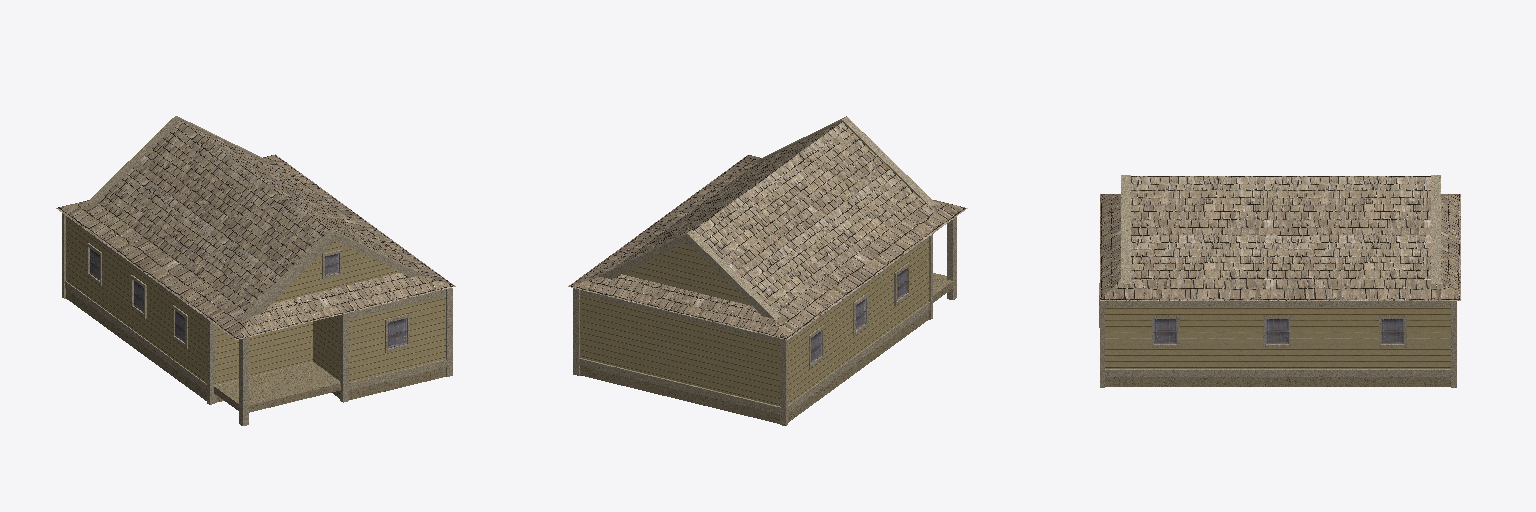
The picture shows the model from 3 angles: view 1: azimuth 30°, elevation 25°; view 2: azimuth 150°, elevation 25°; view 3: azimuth 270°, elevation 25°; orthographic projection.
Visible parts, largest first — view 1: Plane.001, Plane, window1.002_Plane.006, window1_Plane.003; view 2: Plane.001, Plane, window1.002_Plane.006; view 3: Plane.001, Plane, window1.004_Plane.008.
Boxes of the visible parts, box(x1,y1,x2,y2) form: Plane.001: box(56, 116, 455, 339); Plane: box(62, 213, 452, 425); window1.002_Plane.006: box(87, 243, 187, 348); window1_Plane.003: box(385, 314, 409, 352); Plane.001: box(568, 116, 967, 339); Plane: box(573, 217, 956, 425); window1.002_Plane.006: box(809, 262, 909, 368); Plane.001: box(1100, 175, 1460, 300); Plane: box(1100, 301, 1456, 387); window1.004_Plane.008: box(1152, 315, 1406, 347).
Bounding box in the file's own units: 6.53 × 4.63 × 9.3.
21 materials, 6 textured.